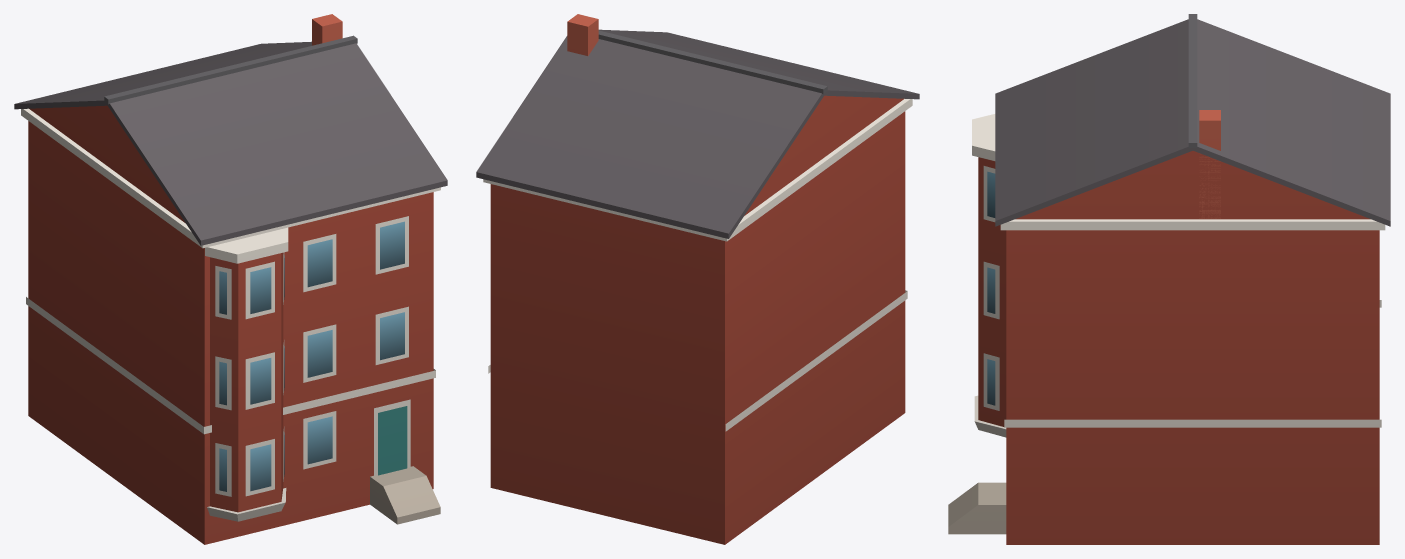
The model's file is lane_w1_far.glb.
3 views of the same model, side by side, from view 1: azimuth 30°, elevation 25°; view 2: azimuth 150°, elevation 25°; view 3: azimuth 270°, elevation 25° (orthographic). The views are drawn at different scales.
Visible parts, largest first — view 1: lane_w1_far; view 2: lane_w1_far; view 3: lane_w1_far.
Part boxes in pixels (left/top/right/bottom): lane_w1_far: left=14, top=14, right=447, bottom=544; lane_w1_far: left=476, top=14, right=919, bottom=544; lane_w1_far: left=948, top=14, right=1390, bottom=544.
Size of the model in its own units: 9.8 by 15.05 by 14.21.
Materials: 1 (1 with a texture image).
